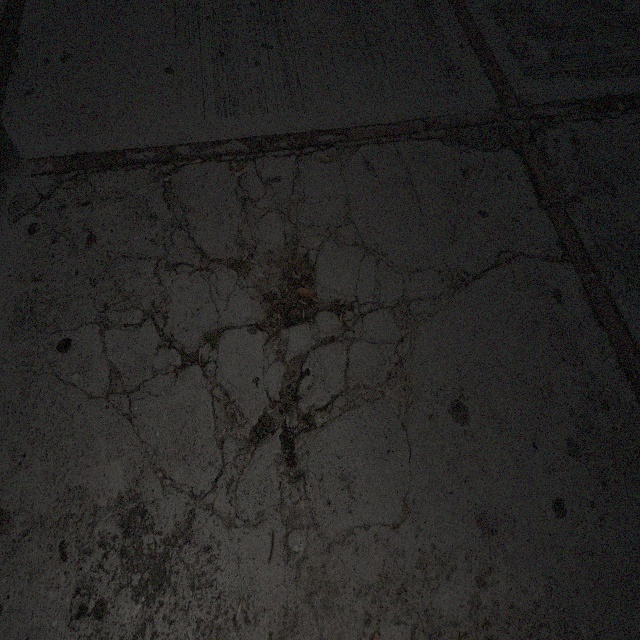pothole: (251, 236, 315, 335)
